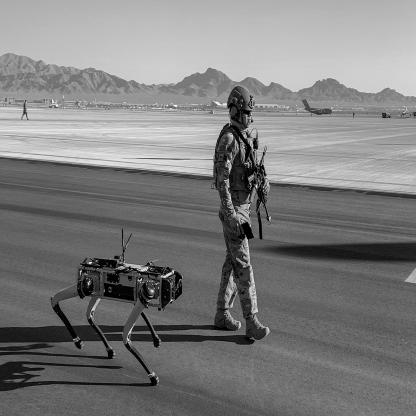C17: (300, 100, 334, 116)
F16: (401, 108, 413, 118)
